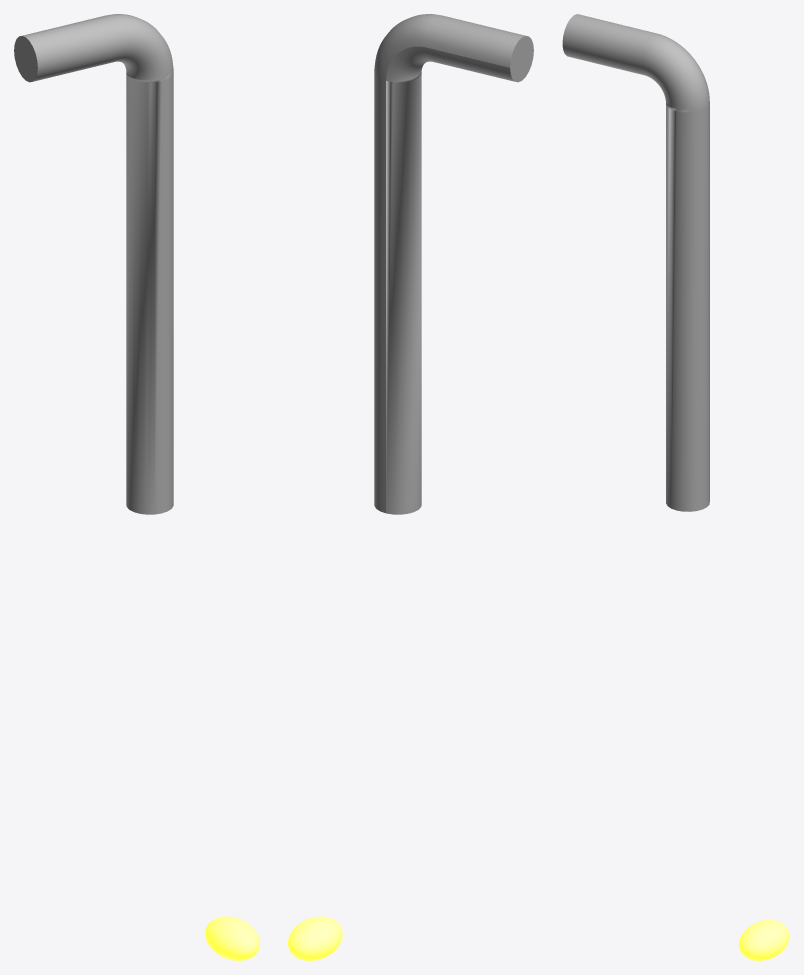
The model's file is lamp.glb.
3 renders of one model, left to right at view 1: azimuth 30°, elevation 25°; view 2: azimuth 150°, elevation 25°; view 3: azimuth 330°, elevation 25°, orthographic. The views are drawn at different scales.
Parts seen in each view (by area): view 1: lamp, bulb; view 2: lamp, bulb; view 3: lamp, bulb.
Part boxes in pixels (<box>): lamp: <box>14,14,173,514</box>; bulb: <box>205,916,259,960</box>; lamp: <box>374,14,533,514</box>; bulb: <box>288,916,342,960</box>; lamp: <box>562,14,709,511</box>; bulb: <box>739,920,789,960</box>.
Size of the model in its own units: 0.5501 by 2.24 by 0.15.
